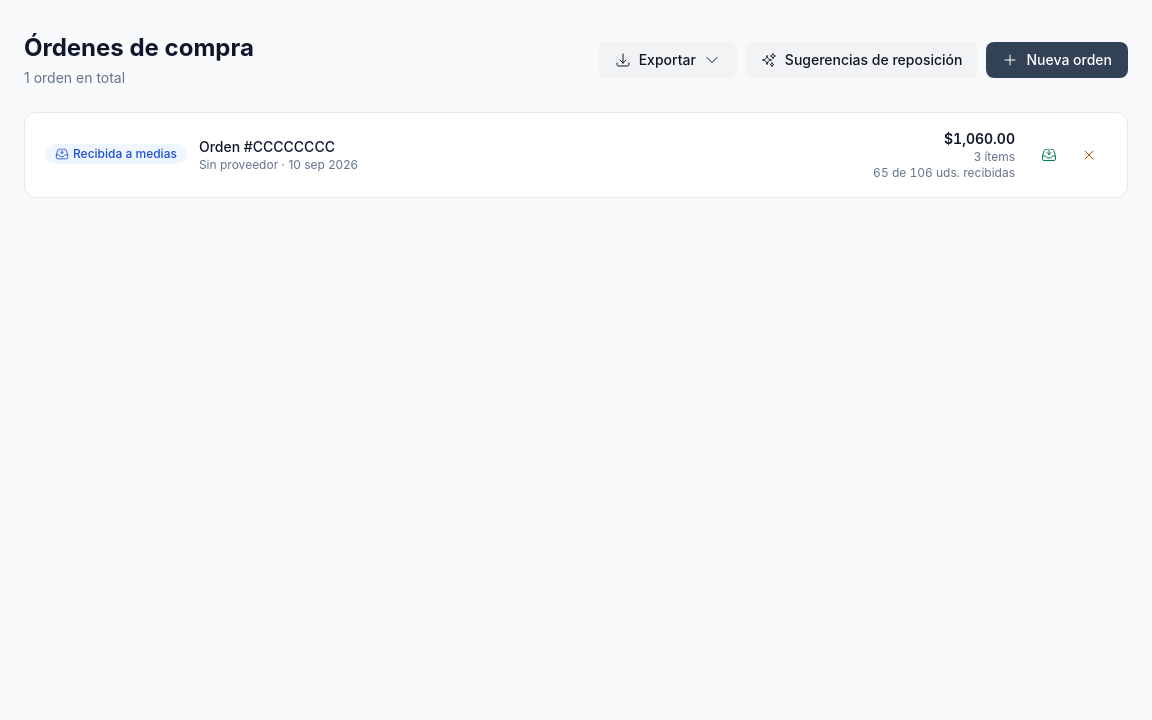
Test: PurchaseOrdersPage — recepción parcial (T5-04) › El diálogo de recepción › propone lo que falta de cada línea y marca las completas
Click the button named "Recibir mercancía de la orden #CCCCCCCC". click: click(1049, 155)
box: [1031,137,1067,173]
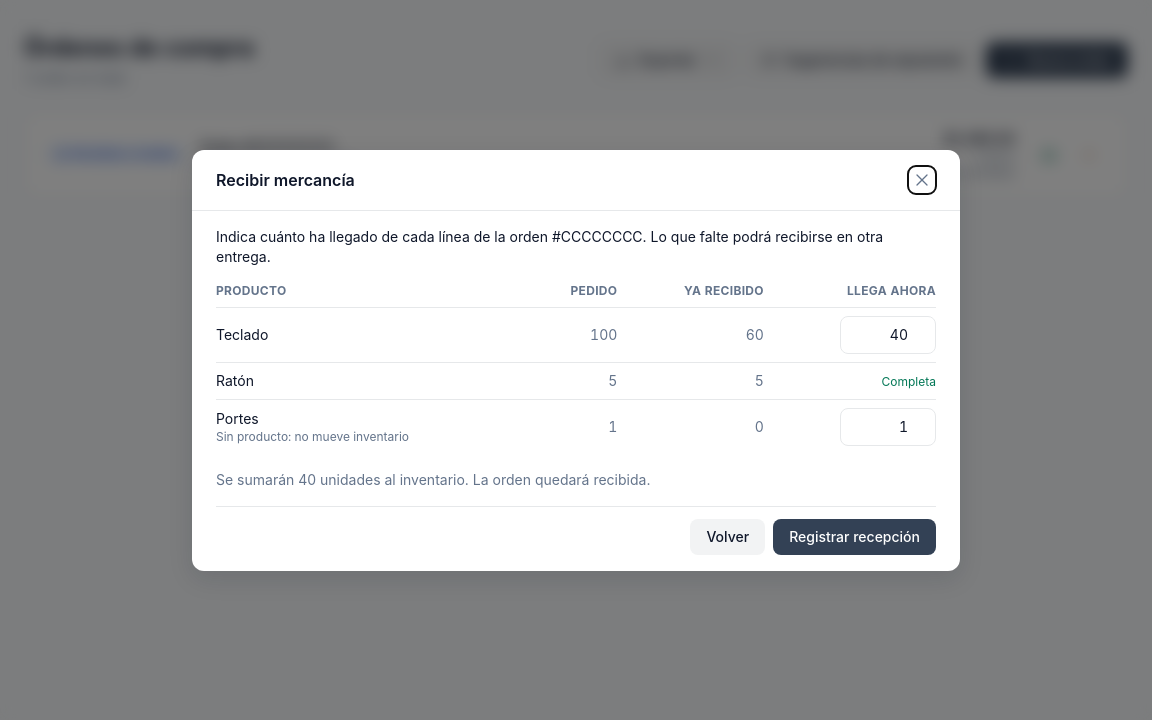
Expected: the text "Completa" is shown, [882,374,936,388]
Expected: the text "Sin producto: no mueve inventario" is shown, [216,428,409,444]
Expected: the text "Se sumarán 40 unidades al inventario. La orden quedará recibida." is shown, [216,470,650,488]
